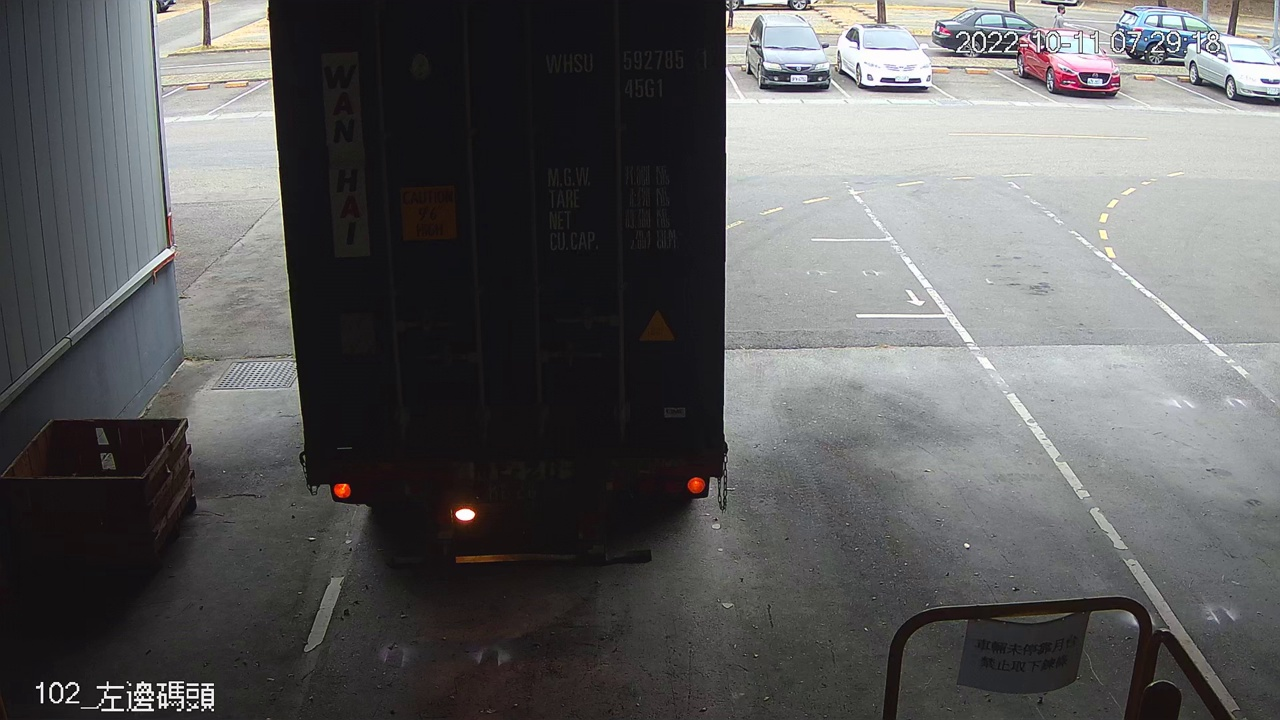container: (534, 42, 718, 104)
